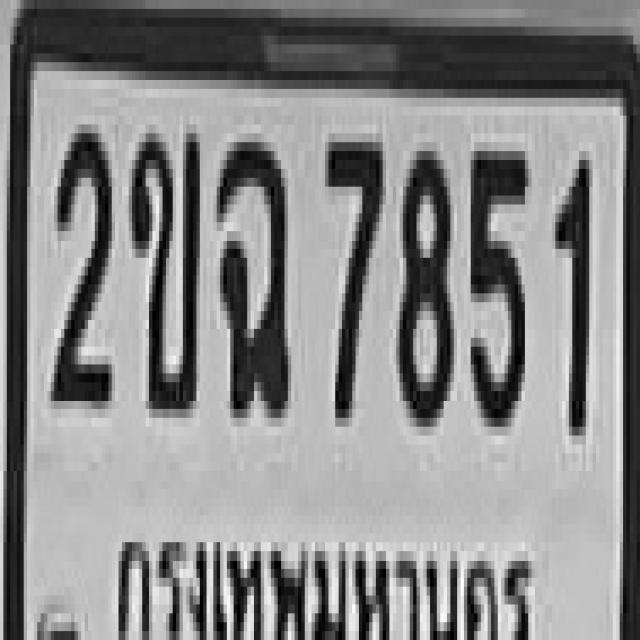1: (552, 151, 586, 427)
11KhorKhai: (129, 124, 196, 409)
18ChorChing: (213, 133, 288, 409)
2: (48, 120, 108, 404)
5: (467, 142, 525, 418)
7: (322, 133, 379, 418)
8: (396, 142, 451, 418)
Bangkok: (109, 508, 550, 640)
